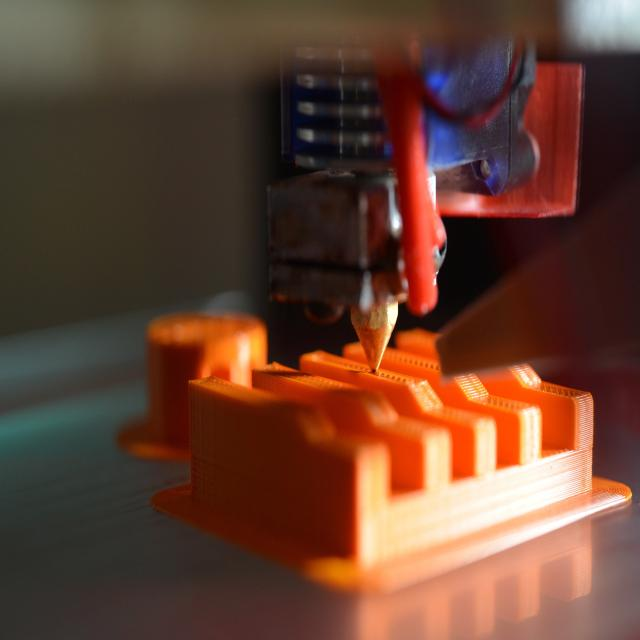Without deffect: (79, 289, 628, 593)
